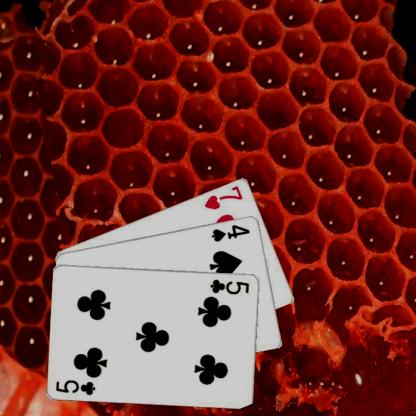4S: (209, 222, 251, 242)
5C: (54, 377, 97, 396), (208, 277, 251, 295)
7H: (202, 183, 244, 210)
